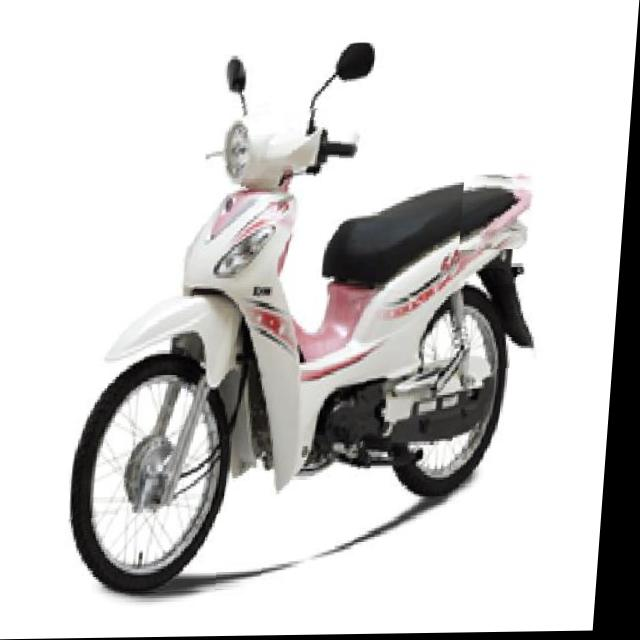All: (71, 41, 567, 596)
Head: (196, 104, 365, 189)
Tail: (463, 177, 544, 251)
